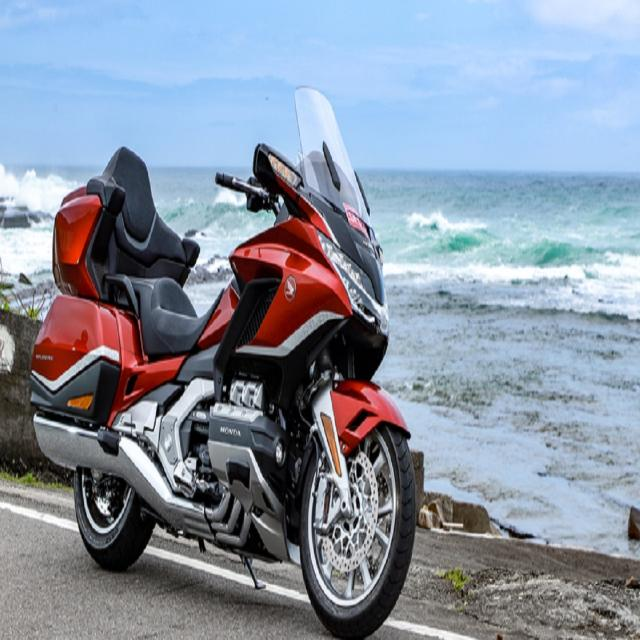Bike: (29, 88, 416, 640)
